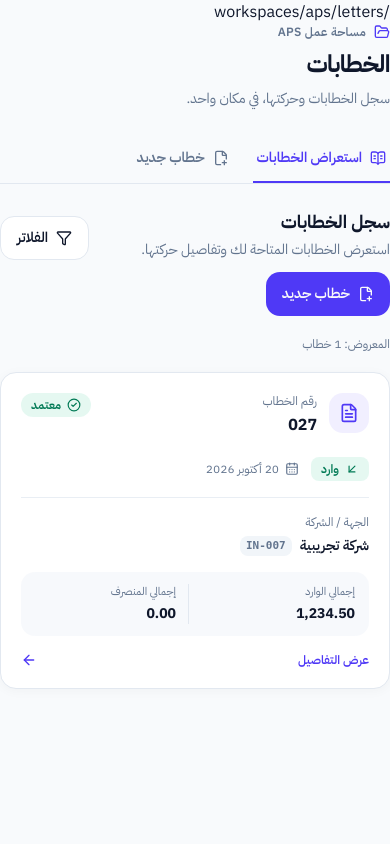
APS letters read-only screens › applies mobile sheet filters only after confirmation and closes on Escape
The width and height of the screenshot is (390, 844).
Check: the link with aria-label "عرض التفاصيل 027" is shown, box [0,372,389,689]
Click the button "الفلاتر". click: coordinates (45, 238)
box: [0,216,89,260]
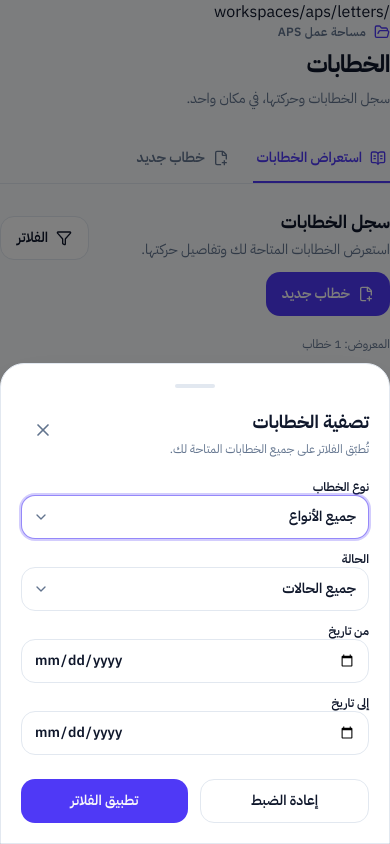
Select "معتمد" in the dropdown labelled "الحالة". click: coordinates (195, 589)
box: [21,567,369,611]
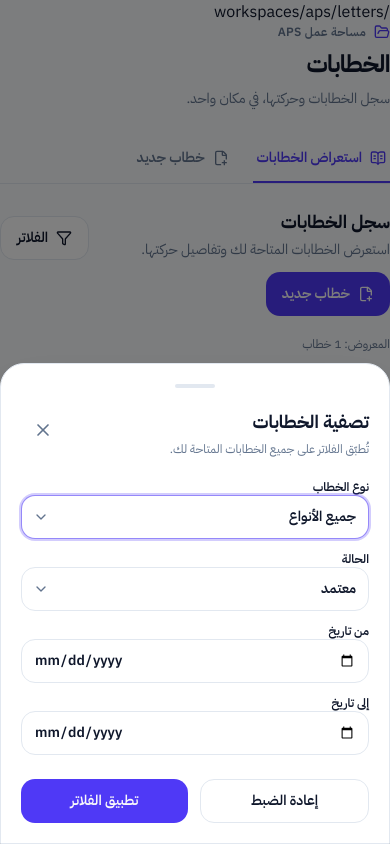
Check: the text with test id "current-location" reads "/workspaces/aps/letters", box [214,0,389,24]
Click the button "تطبيق الفلاتر". click: coordinates (104, 801)
box: [21,779,188,823]
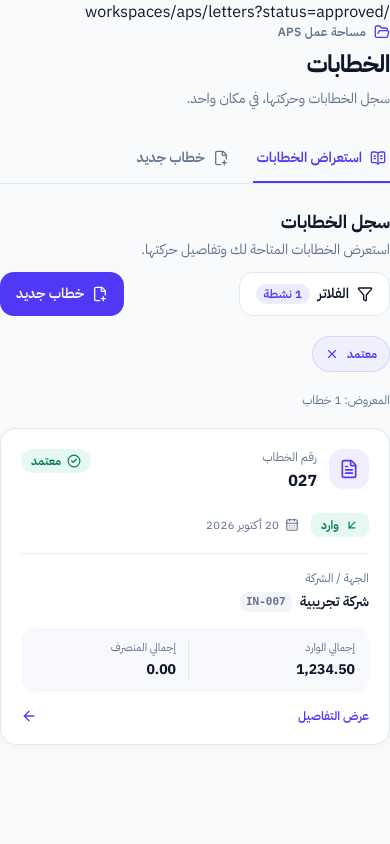
Check: the text with test id "current-location" reads "/workspaces/aps/letters?status=approved", box [85,0,389,24]
Click the button "الفلاتر 1 نشطة". click: coordinates (314, 294)
box: [239,272,389,316]
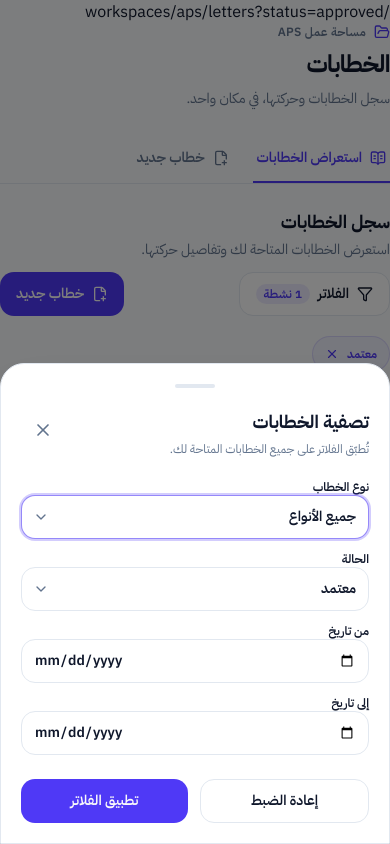
Press Escape in the dialog "تصفية الخطابات", box [0,362,389,843]
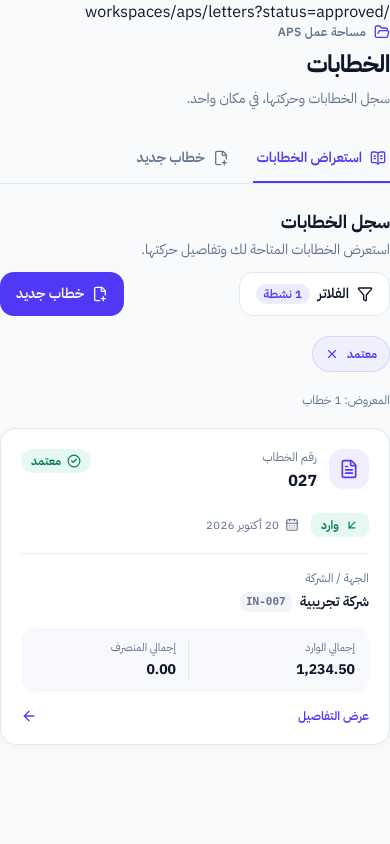
Check: the heading "تصفية الخطابات" is gone
